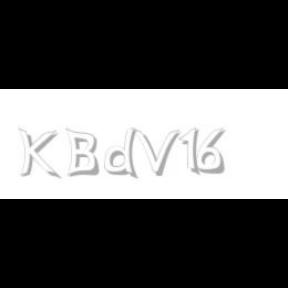1: (178, 128, 200, 176)
6: (196, 128, 224, 176)
B: (65, 128, 99, 178)
K: (18, 128, 58, 180)
V: (132, 128, 180, 176)
d: (104, 128, 142, 180)
